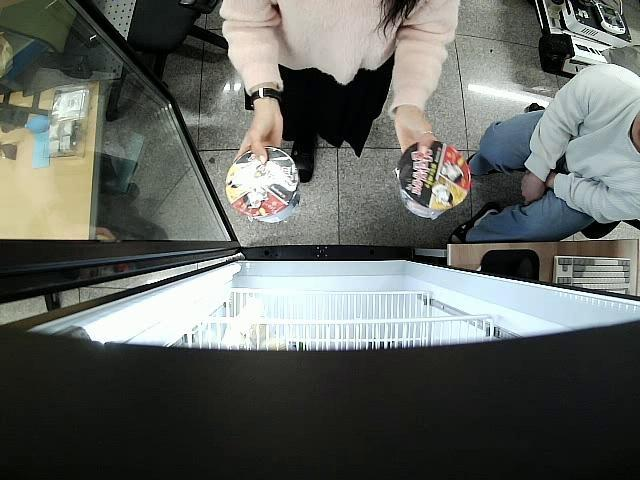07_buldak_L: (225, 145, 302, 224), (393, 140, 468, 219)
